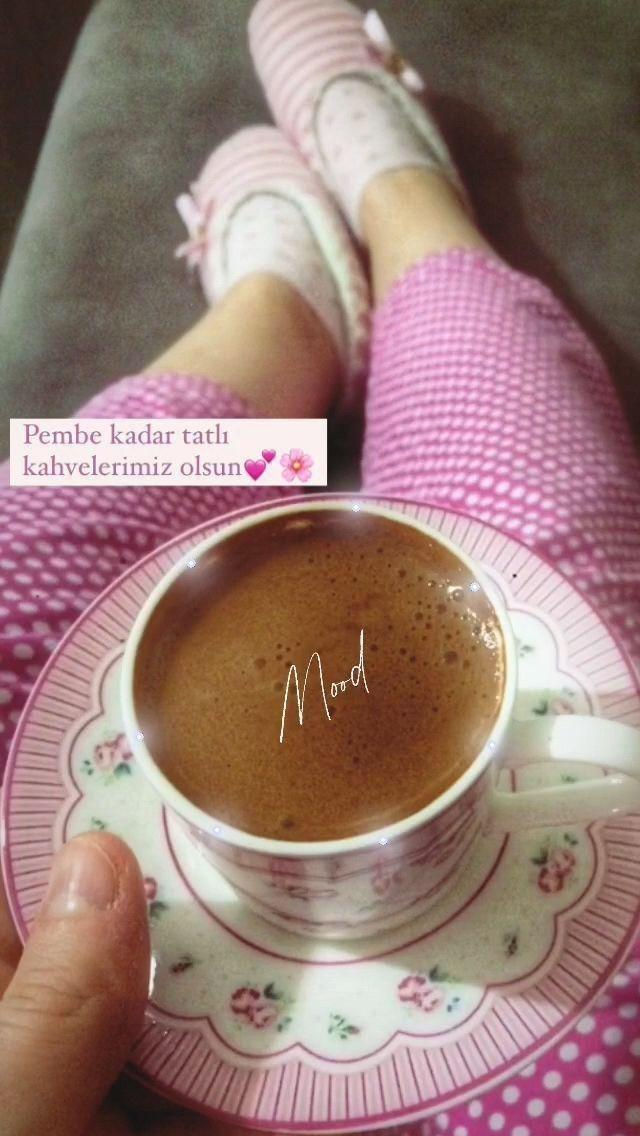cup-handle: (117, 493, 639, 956)
